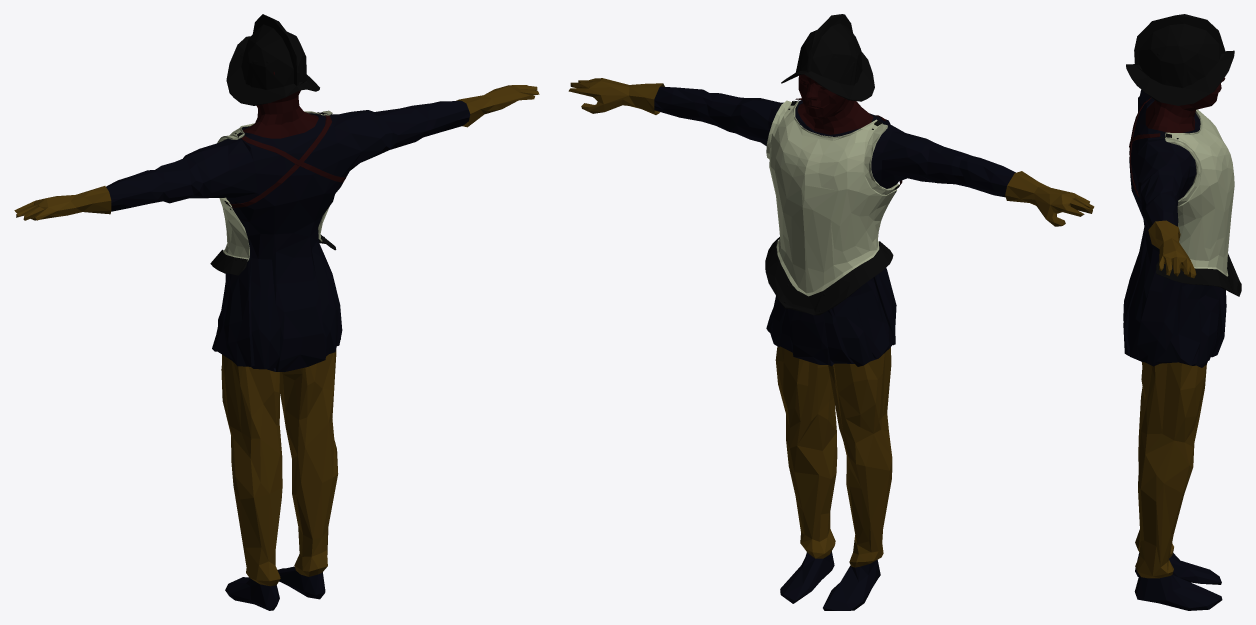
File: Guard.obj
3 views of the same model, side by side, from view 1: azimuth 30°, elevation 25°; view 2: azimuth 150°, elevation 25°; view 3: azimuth 270°, elevation 25° (orthographic).
Parts seen in each view (by area): view 1: Guard_Plane.034, Helmet_Plane.039, Harness_Plane.038; view 2: Guard_Plane.034, Harness_Plane.038, Helmet_Plane.039; view 3: Guard_Plane.034, Harness_Plane.038, Helmet_Plane.039.
Part boxes in pixels (box(x1,y1,x2,y2)): Guard_Plane.034: box(14, 72, 539, 610); Helmet_Plane.039: box(226, 14, 319, 105); Harness_Plane.038: box(210, 110, 345, 275); Guard_Plane.034: box(568, 74, 1094, 610); Harness_Plane.038: box(765, 98, 902, 315); Helmet_Plane.039: box(781, 14, 874, 101); Guard_Plane.034: box(1123, 77, 1226, 610); Harness_Plane.038: box(1129, 97, 1241, 296); Helmet_Plane.039: box(1126, 14, 1234, 105).
Size of the model in its own units: 1.56 by 1.65 by 0.3053.
